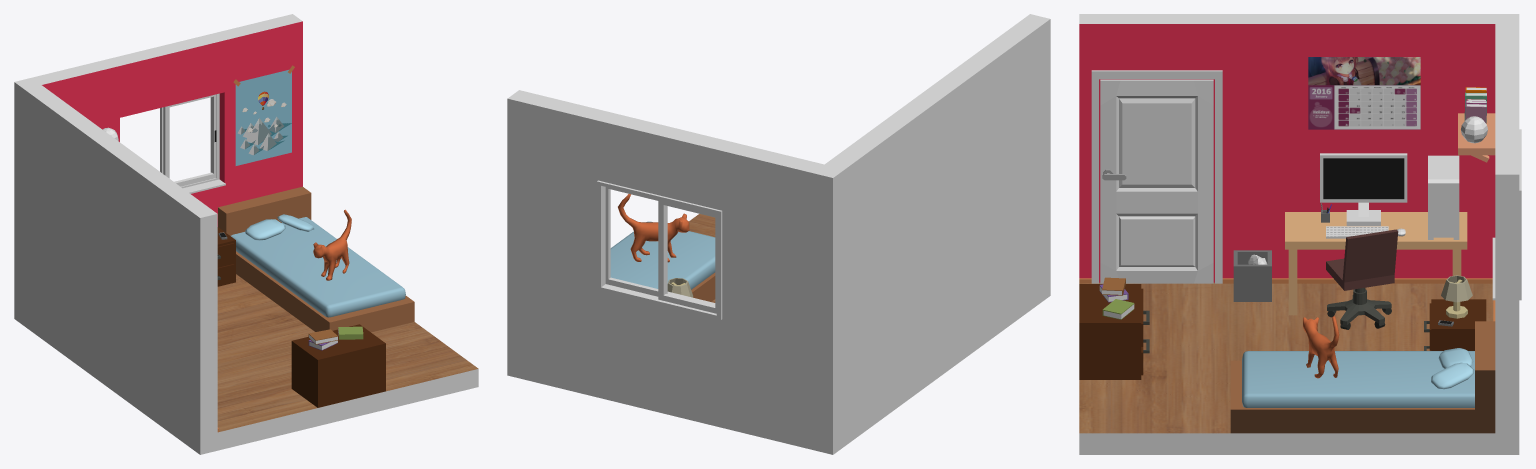
The model's file is low_poly_room.glb.
The picture shows the model from 3 angles, left to right: view 1: azimuth 30°, elevation 25°; view 2: azimuth 150°, elevation 25°; view 3: azimuth 270°, elevation 25°; orthographic projection. The views are drawn at different scales.
Parts seen in each view (by area): view 1: Cube.002; view 2: Cube.002; view 3: Cube.002.
Part boxes in pixels (box(x1,y1,x2,y2)): Cube.002: box(14, 14, 478, 454); Cube.002: box(507, 14, 1050, 454); Cube.002: box(1079, 14, 1521, 454).
Bounding box in the file's own units: 320 × 260 × 372.
Materials: 3 (2 with a texture image).
